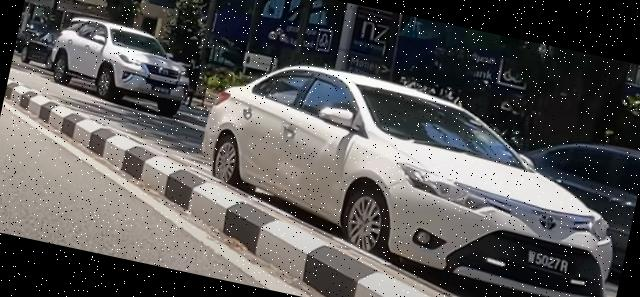License_Plate: (525, 248, 573, 276)
car: (183, 44, 640, 297), (43, 11, 199, 120)
